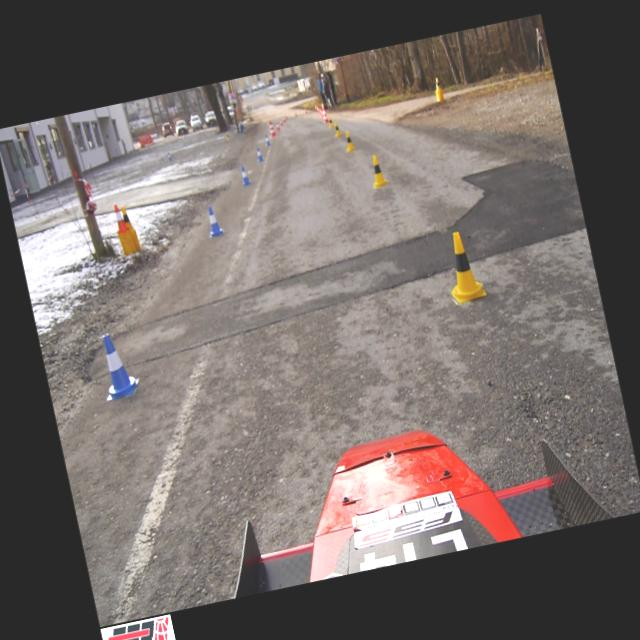blue_cone: (92, 327, 142, 401), (203, 204, 224, 237), (239, 164, 250, 185), (255, 146, 263, 160), (264, 133, 270, 145), (166, 151, 172, 161), (238, 119, 242, 126)
large_orange_cone: (268, 120, 276, 136), (322, 108, 328, 122)
orange_cone: (112, 203, 130, 233), (275, 122, 280, 130), (279, 117, 283, 126), (321, 108, 324, 118), (320, 102, 324, 109), (282, 116, 286, 122), (284, 114, 288, 120), (318, 107, 321, 115), (304, 108, 308, 114), (294, 110, 298, 116), (316, 106, 319, 113), (314, 104, 317, 111)
yellow_cone: (439, 228, 487, 304), (368, 153, 388, 187), (120, 204, 134, 232), (342, 129, 354, 151), (332, 120, 342, 136), (433, 76, 442, 90), (328, 116, 333, 128), (224, 130, 230, 140)
